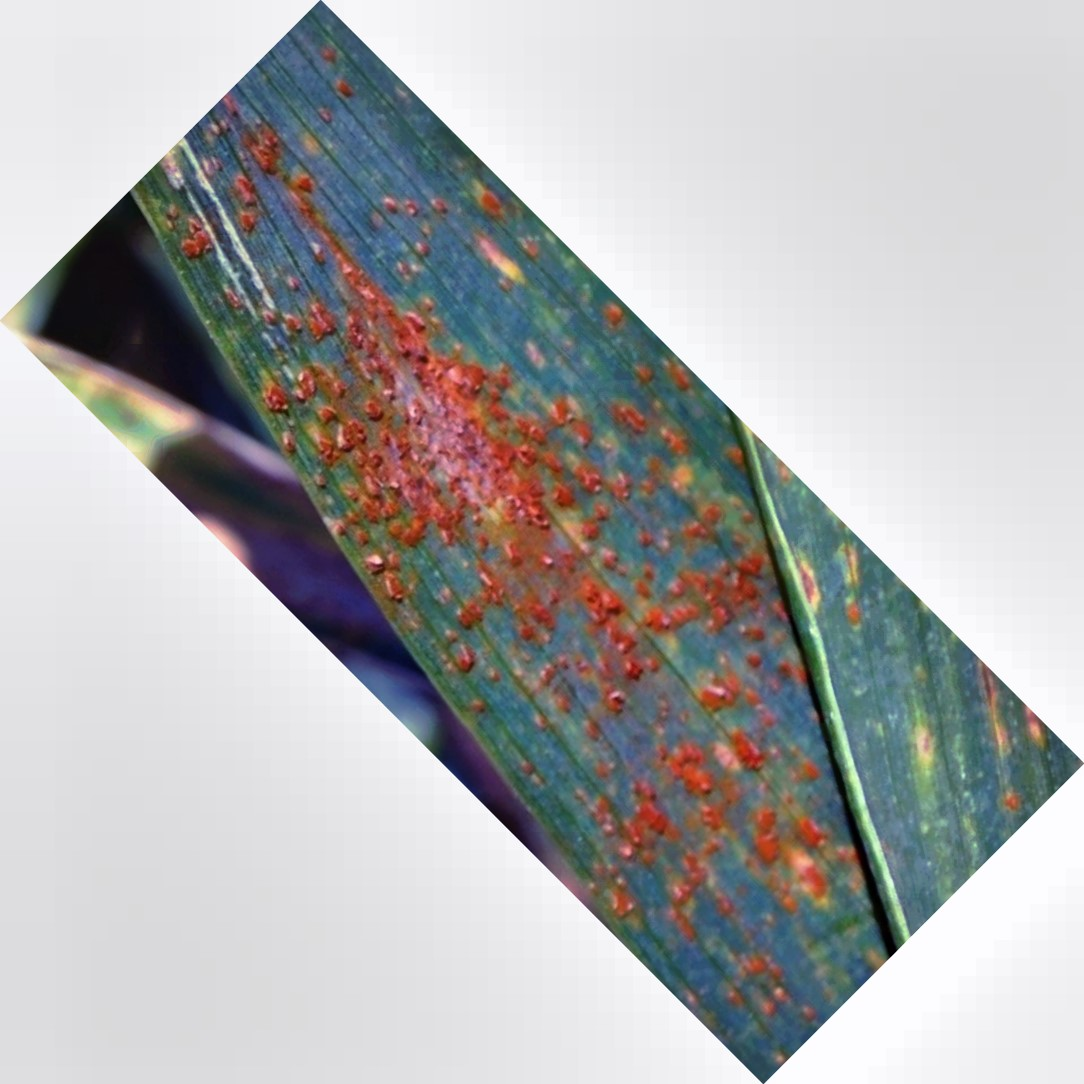Leaf Rust: (218, 210, 856, 924)
